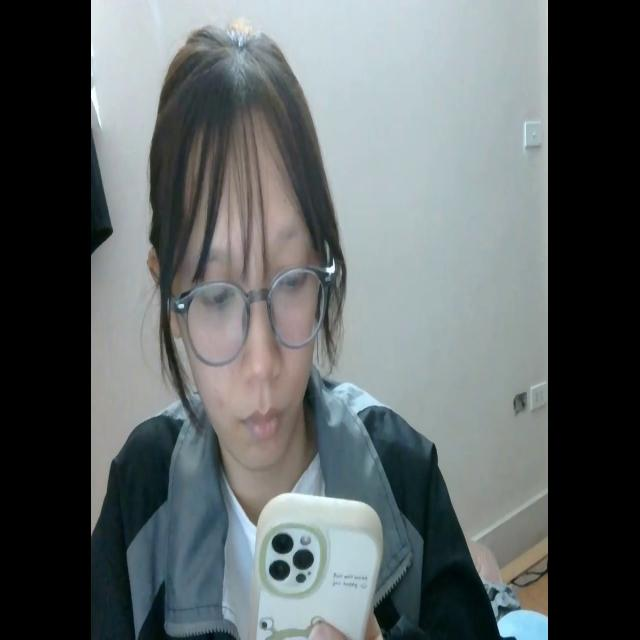phone: (248, 488, 382, 640)
student: (95, 19, 496, 640)
